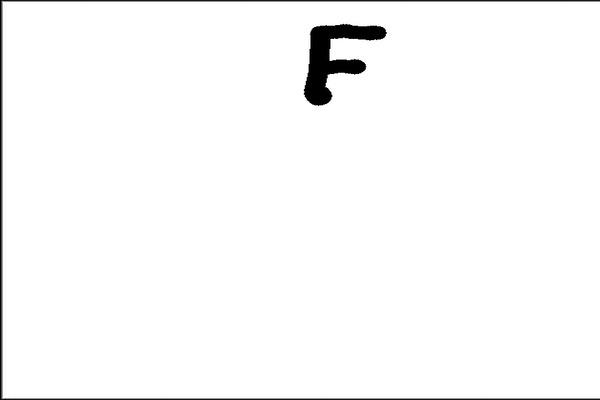F: (297, 18, 392, 108)
